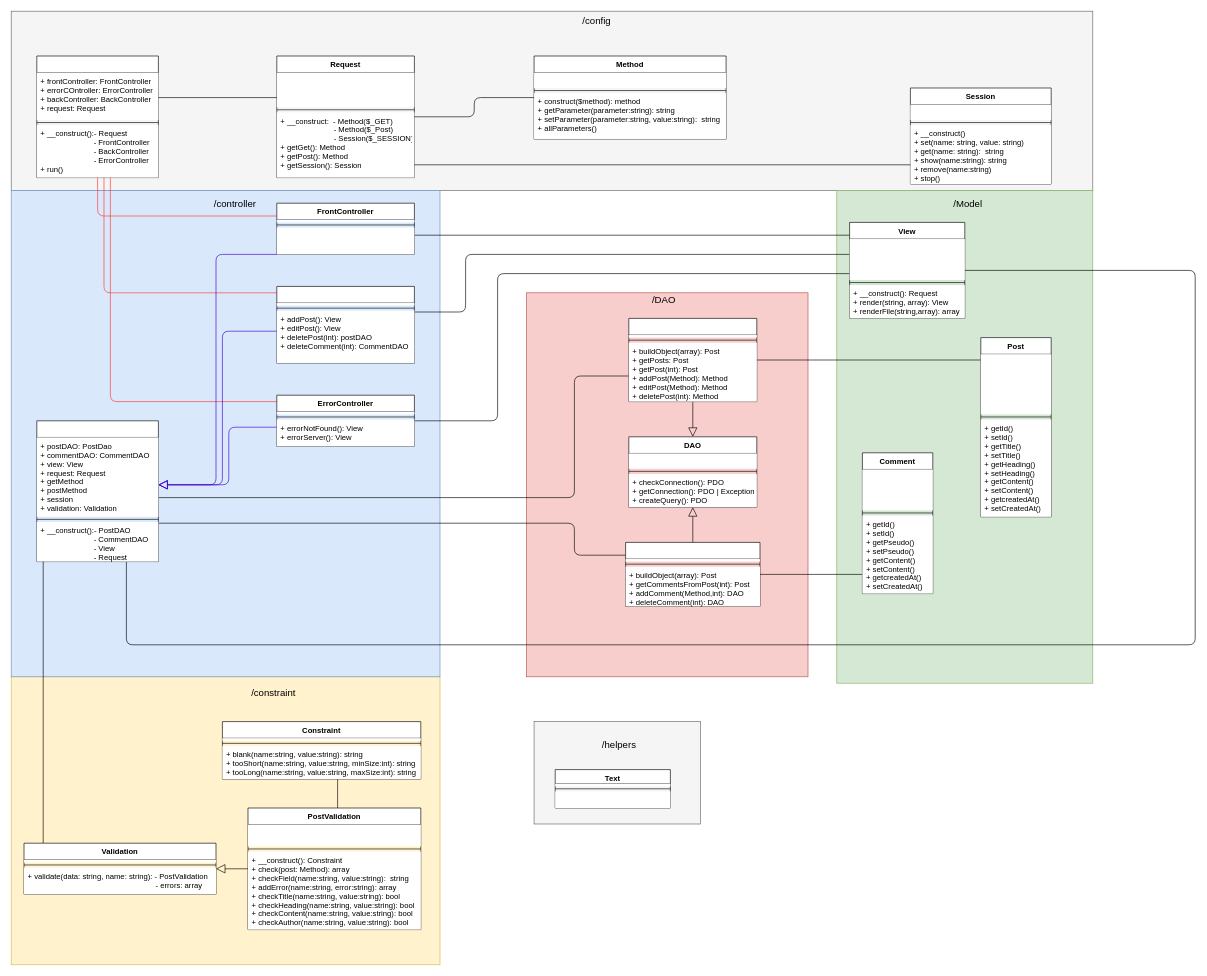
This 1207x976 diagram has some shape labels left out. The shapes that lost their labels are listed below. From the top down, each one's box as (x1, y1, x2, y2) in pixels, then its label:
(276, 72, 414, 107): + get: Method + post: Method + session: Session
(534, 72, 726, 88): + method
(36, 55, 158, 178): Router
(910, 104, 1051, 120): + session
(276, 227, 414, 254): + home(): View + post(): View
(849, 239, 964, 280): + file + title + request + session
(276, 286, 414, 363): BackController
(628, 318, 757, 402): PostDAO
(980, 354, 1051, 414): + id + title + heading + author + content + createdAt
(628, 453, 756, 468): + connection
(36, 420, 158, 562): Controller
(862, 469, 932, 510): + id + pseudo + content +createdAt
(625, 542, 760, 606): CommentDAO
(555, 791, 670, 808): + excerpt(string,int): string
(248, 824, 420, 846): + errors: array + constraint: Constraint
